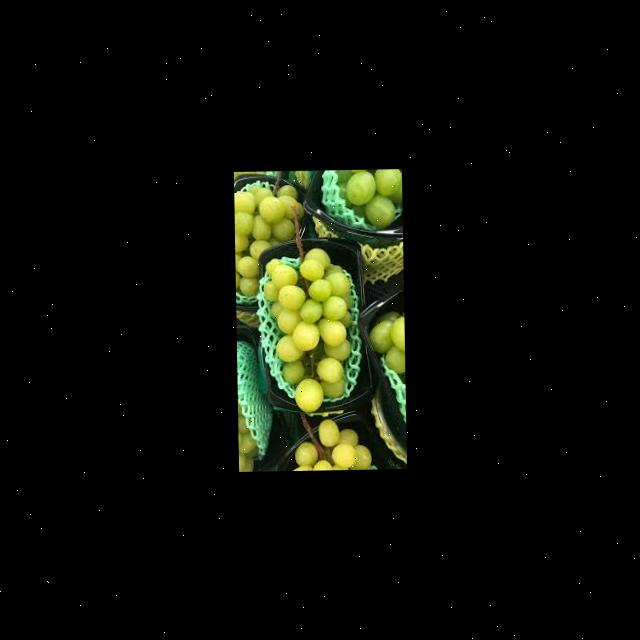grape: (262, 245, 354, 412), (234, 180, 306, 296), (290, 418, 372, 470), (369, 310, 405, 374)
